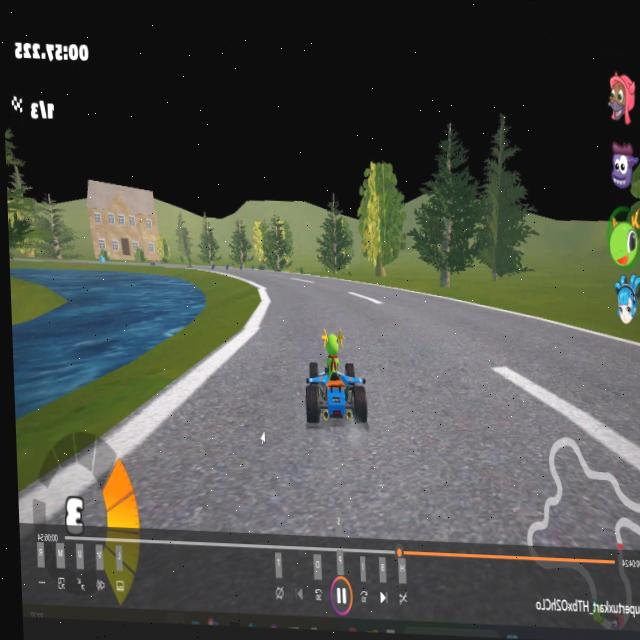nitro: (223, 258, 232, 273), (236, 261, 245, 272), (210, 260, 217, 272), (250, 261, 255, 277)
player_kart: (299, 323, 377, 432)
track: (132, 425, 640, 547), (373, 335, 640, 445), (260, 313, 302, 431), (188, 366, 263, 428), (336, 294, 449, 329), (259, 269, 336, 313), (442, 305, 509, 344), (503, 322, 580, 348), (153, 392, 190, 432), (236, 324, 263, 370), (359, 280, 397, 294), (337, 275, 362, 294), (507, 312, 521, 324), (331, 275, 337, 290)
